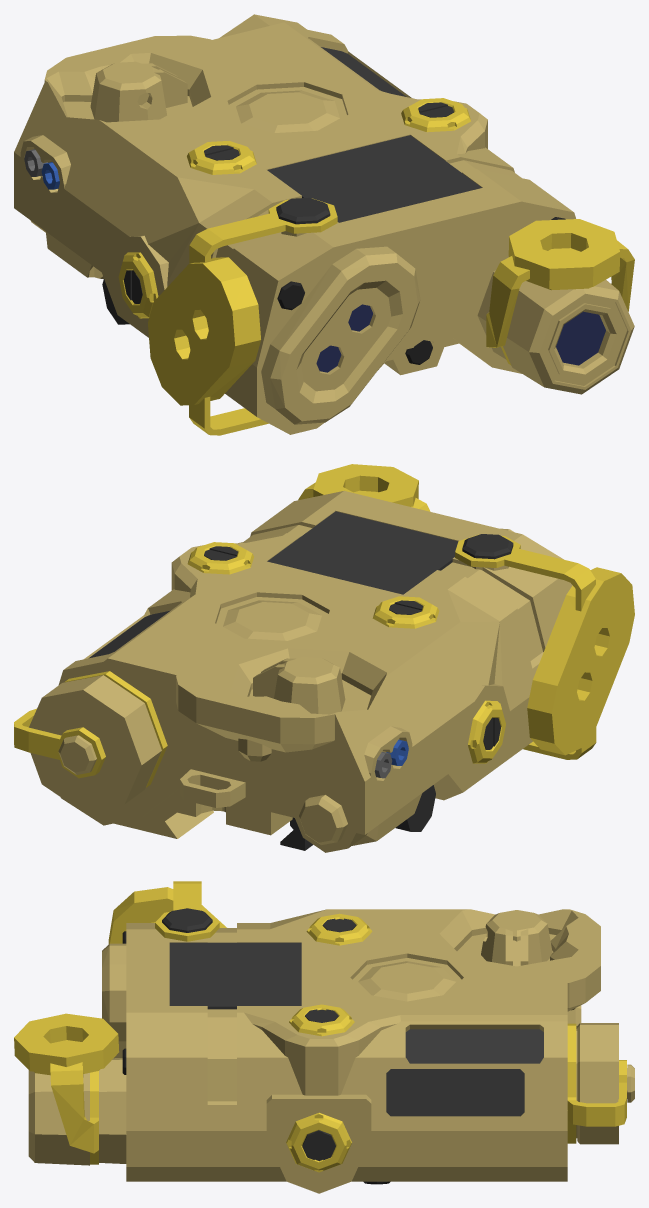
The model's file is peq15.glb.
The picture shows the model from 3 angles, top to bottom: view 1: azimuth 30°, elevation 25°; view 2: azimuth 150°, elevation 25°; view 3: azimuth 270°, elevation 25°; orthographic projection. The views are drawn at different scales.
Visible parts, largest first — view 1: ATPIAL AN PEQ-15 1, ATPIAL AN PEQ-15 1 Cover 2, ATPIAL AN PEQ-15 1 Cover 1, ATPIAL AN PEQ-15 1 Part 2, ATPIAL AN PEQ-15 1 Part 1.003_ATPIAL AN PEQ-15 1 Material 3_, ATPIAL AN PEQ-15 1 Part 1, ATPIAL AN PEQ-15 1 Part 1.001_ATPIAL AN PEQ-15 1 Material 3_; view 2: ATPIAL AN PEQ-15 1, ATPIAL AN PEQ-15 1 Cover 2, ATPIAL AN PEQ-15 1 Part 2, ATPIAL AN PEQ-15 1 Cover 1, ATPIAL AN PEQ-15 1 Button 1, ATPIAL AN PEQ-15 1 Part 1.003_ATPIAL AN PEQ-15 1 Material 3_, ATPIAL AN PEQ-15 1 Part 1.001_ATPIAL AN PEQ-15 1 Material 3_, ATPIAL AN PEQ-15 1 Part 1; view 3: ATPIAL AN PEQ-15 1, ATPIAL AN PEQ-15 1 Cover 1, ATPIAL AN PEQ-15 1 Cover 2, ATPIAL AN PEQ-15 1 Part 2, ATPIAL AN PEQ-15 1 Part 1.002_ATPIAL AN PEQ-15 1 Material 3_, ATPIAL AN PEQ-15 1 Part 1.001_ATPIAL AN PEQ-15 1 Material 3_, ATPIAL AN PEQ-15 1 Part 1.
Part boxes in pixels (<box>): ATPIAL AN PEQ-15 1: <box>14,14,634,434</box>; ATPIAL AN PEQ-15 1 Cover 2: <box>148,198,337,435</box>; ATPIAL AN PEQ-15 1 Cover 1: <box>486,219,634,365</box>; ATPIAL AN PEQ-15 1 Part 2: <box>90,61,187,122</box>; ATPIAL AN PEQ-15 1 Part 1.003_ATPIAL AN PEQ-15 1 Material 3_: <box>118,252,158,318</box>; ATPIAL AN PEQ-15 1 Part 1: <box>187,141,256,174</box>; ATPIAL AN PEQ-15 1 Part 1.001_ATPIAL AN PEQ-15 1 Material 3_: <box>401,98,470,132</box>; ATPIAL AN PEQ-15 1: <box>14,491,572,852</box>; ATPIAL AN PEQ-15 1 Cover 2: <box>455,534,634,759</box>; ATPIAL AN PEQ-15 1 Part 2: <box>253,657,345,714</box>; ATPIAL AN PEQ-15 1 Cover 1: <box>298,464,430,511</box>; ATPIAL AN PEQ-15 1 Button 1: <box>299,795,347,844</box>; ATPIAL AN PEQ-15 1 Part 1.003_ATPIAL AN PEQ-15 1 Material 3_: <box>468,700,505,763</box>; ATPIAL AN PEQ-15 1 Part 1.001_ATPIAL AN PEQ-15 1 Material 3_: <box>187,542,253,574</box>; ATPIAL AN PEQ-15 1 Part 1: <box>372,596,439,628</box>; ATPIAL AN PEQ-15 1: <box>28,908,634,1193</box>; ATPIAL AN PEQ-15 1 Cover 1: <box>14,1013,119,1164</box>; ATPIAL AN PEQ-15 1 Cover 2: <box>108,881,226,944</box>; ATPIAL AN PEQ-15 1 Part 2: <box>481,910,552,966</box>; ATPIAL AN PEQ-15 1 Part 1.002_ATPIAL AN PEQ-15 1 Material 3_: <box>286,1112,351,1172</box>; ATPIAL AN PEQ-15 1 Part 1.001_ATPIAL AN PEQ-15 1 Material 3_: <box>289,1004,354,1036</box>; ATPIAL AN PEQ-15 1 Part 1: <box>306,913,372,945</box>.
Size of the model in its own units: 0.0864 by 0.0453 by 0.1357.
